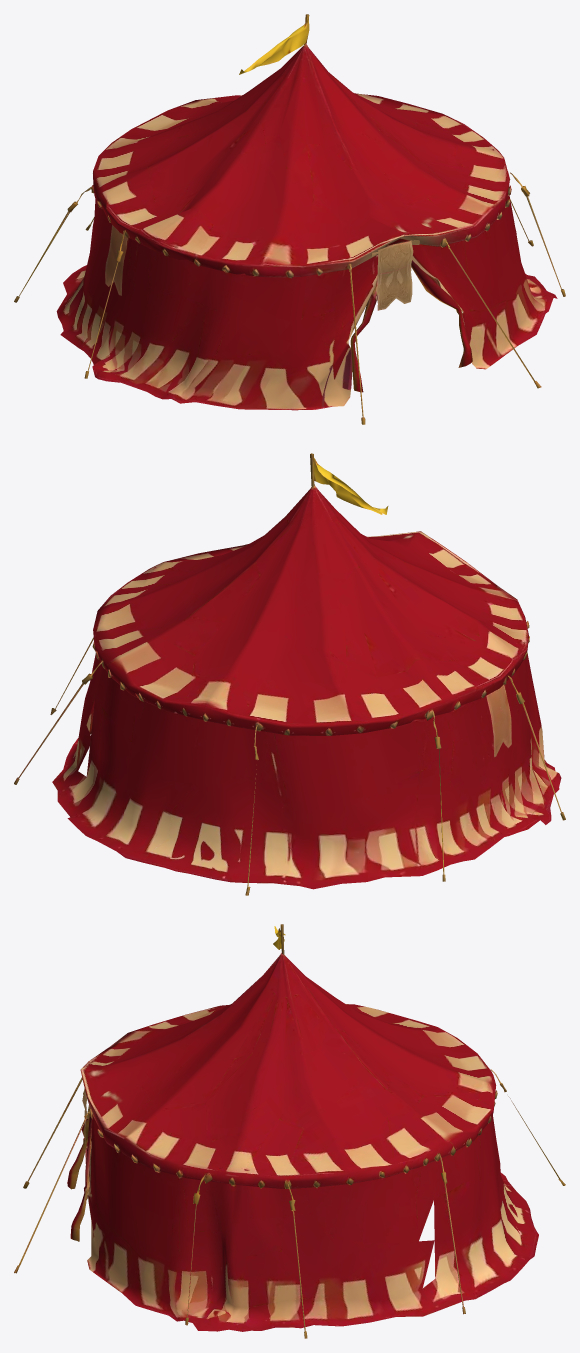
Rendered from warTent.glb.
The picture shows the model from 3 angles, top to bottom: view 1: azimuth 30°, elevation 25°; view 2: azimuth 150°, elevation 25°; view 3: azimuth 270°, elevation 25°; orthographic projection. The views are drawn at different scales.
Size of the model in its own units: 0.9399 by 0.5894 by 0.9541.
1 material, 1 textured.
